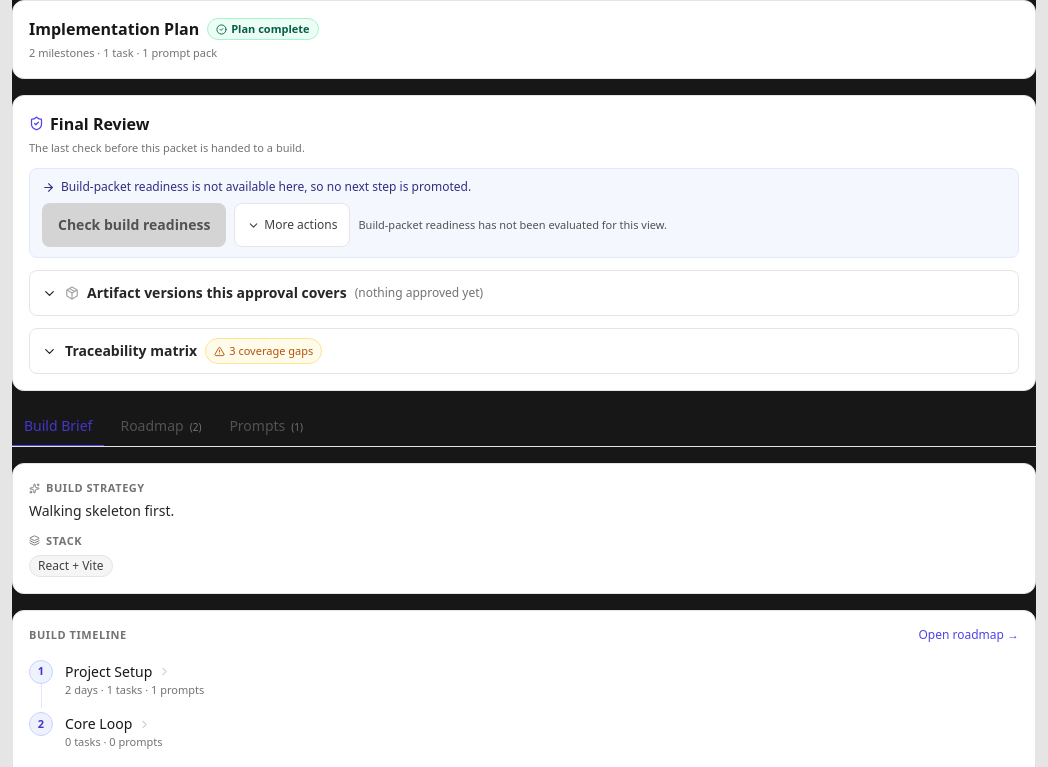
Test: ImplementationPlanRenderer — self-reported task progress on milestone rows › names a converted task marked started
Click the button "Roadmap(2)".
click(161, 427)  # box [108,407,213,447]
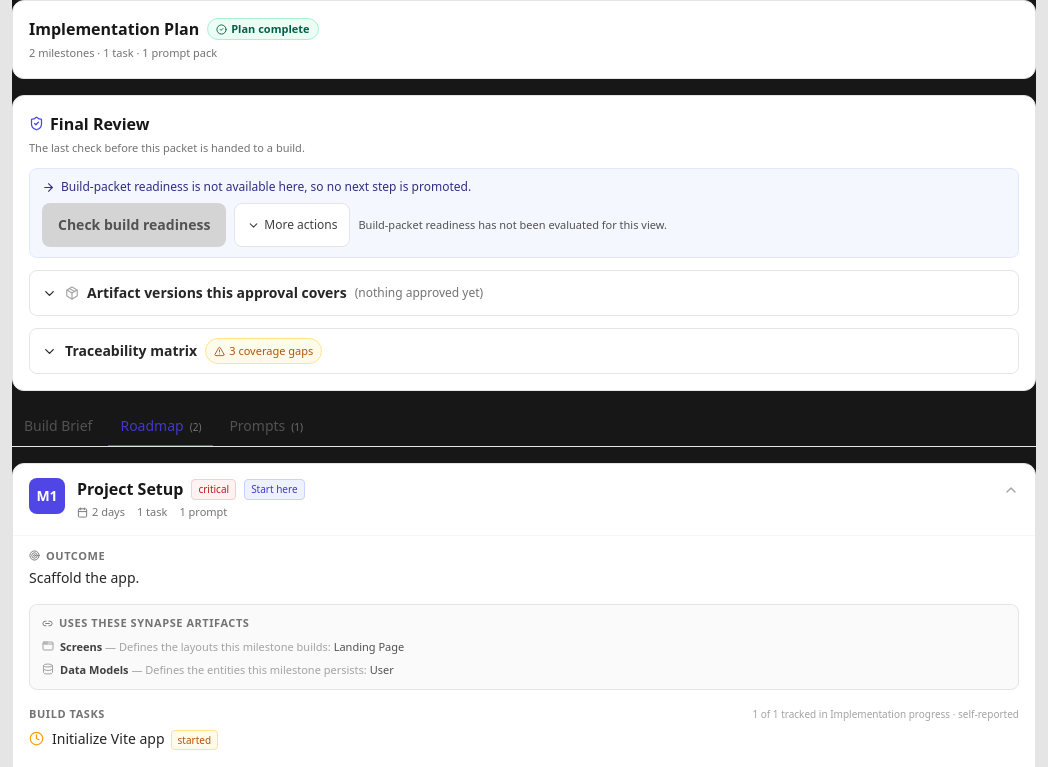
Expected: the text titled "Started" is shown, [178,733,211,747]
